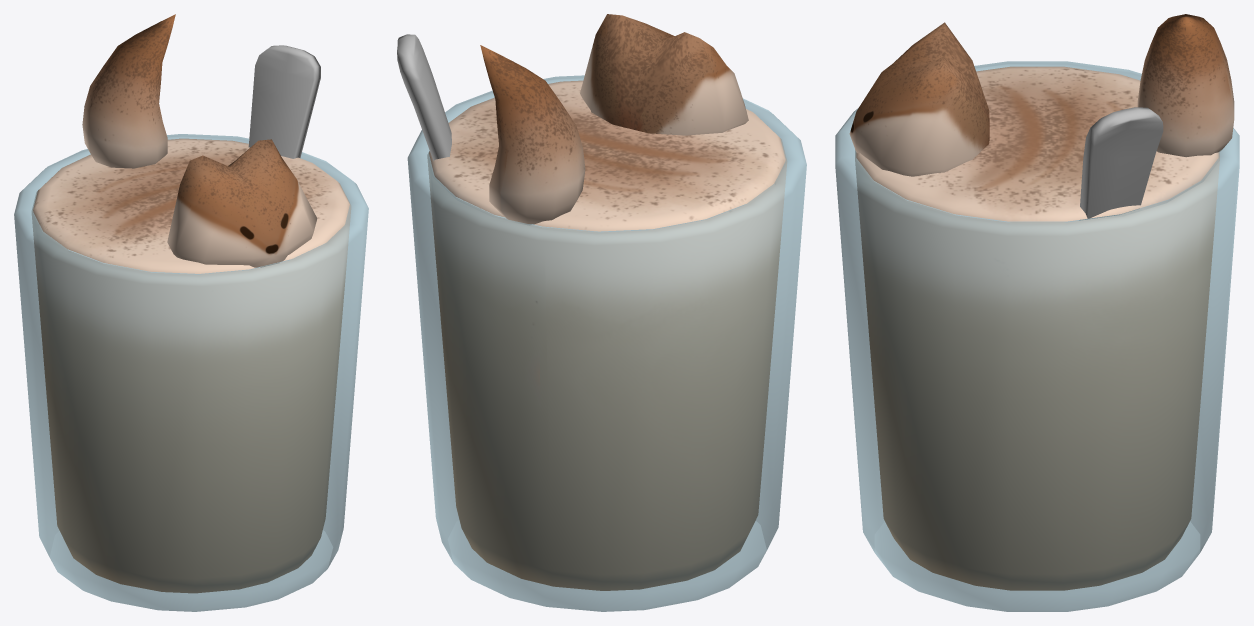
The picture shows the model from 3 angles, left to right: view 1: azimuth 30°, elevation 25°; view 2: azimuth 150°, elevation 25°; view 3: azimuth 270°, elevation 25°; orthographic projection. The views are drawn at different scales.
Parts seen in each view (by area): view 1: Cat_coffee:group3, pCube1; view 2: Cat_coffee:group3, pCube1; view 3: Cat_coffee:group3, pCube1.
Boxes of the visible parts, <box> form: Cat_coffee:group3: <box>14,14,368,611</box>; pCube1: <box>248,45,320,158</box>; Cat_coffee:group3: <box>407,14,806,611</box>; pCube1: <box>397,34,451,160</box>; Cat_coffee:group3: <box>835,14,1239,611</box>; pCube1: <box>1079,107,1163,220</box>.
Size of the model in its own units: 205 by 309 by 202.
Materials: 2 (1 with a texture image).
